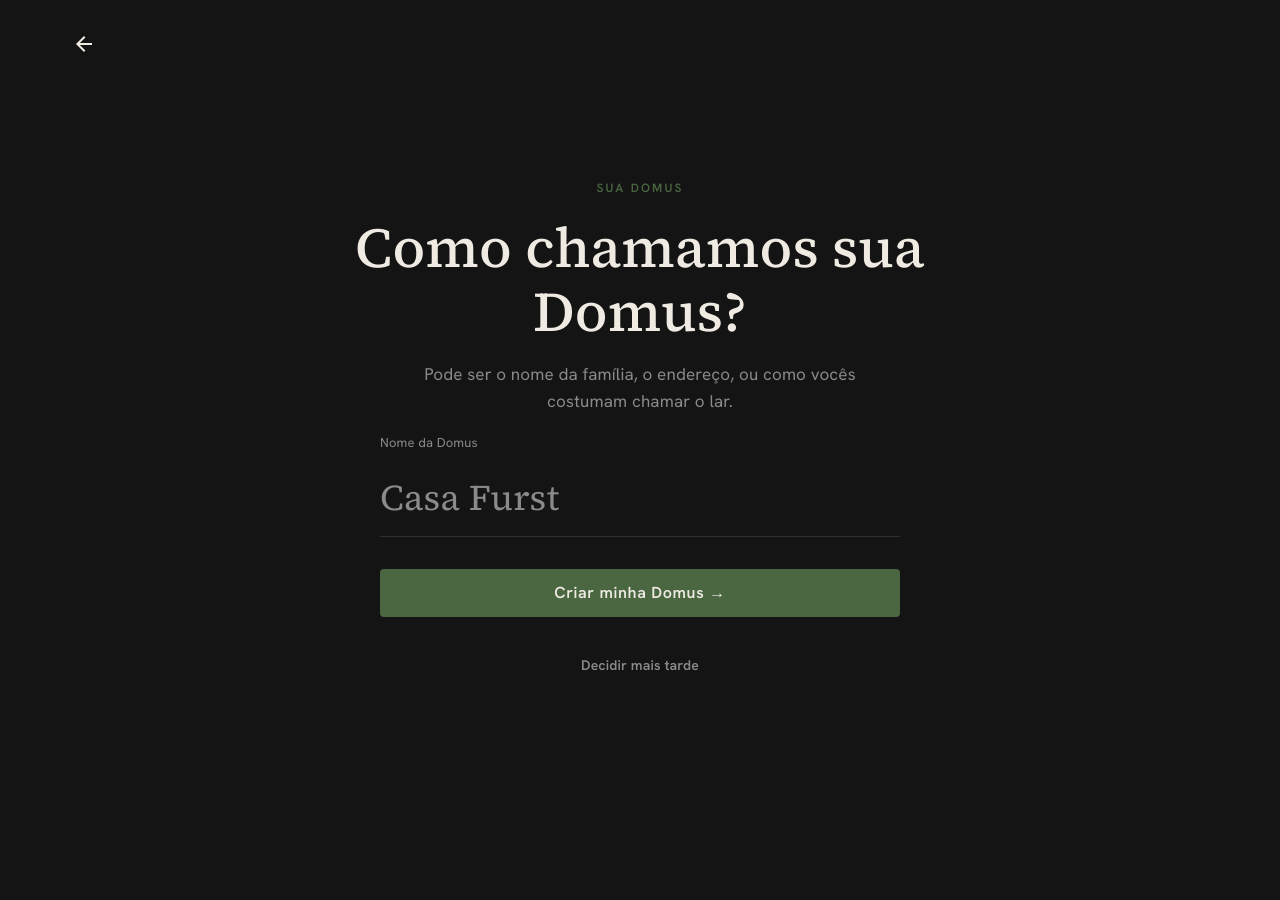
Test: CreateHouseholdPage › skips creation without showing the ready invite step
This screenshot has width=1280, height=900.
Expected: the heading "Como chamamos sua Domus?" is shown, [320,216,960,345]
Click the button "Decidir mais tarde" at (640, 665), box [380,649,900,681]
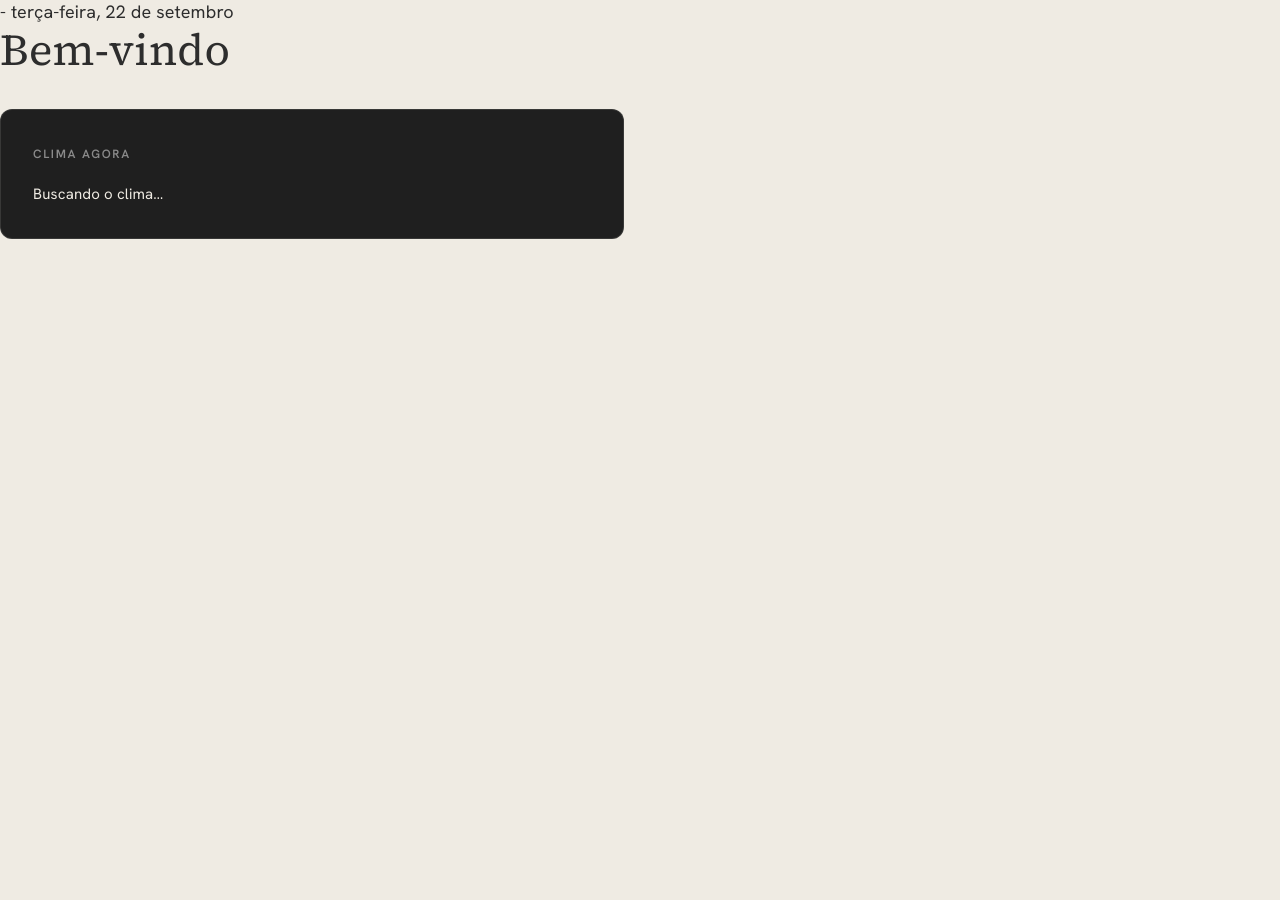
Expected: the heading "Bem-vindo" is shown, [0,19,230,80]
